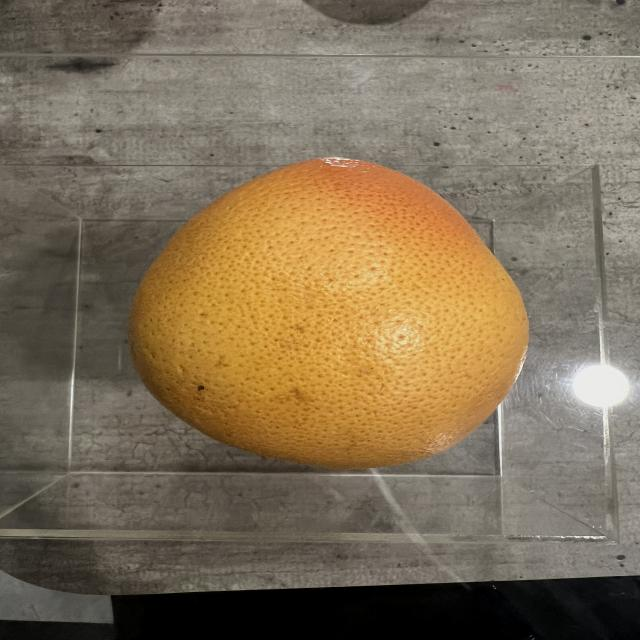grapefruit: (134, 154, 525, 468)
